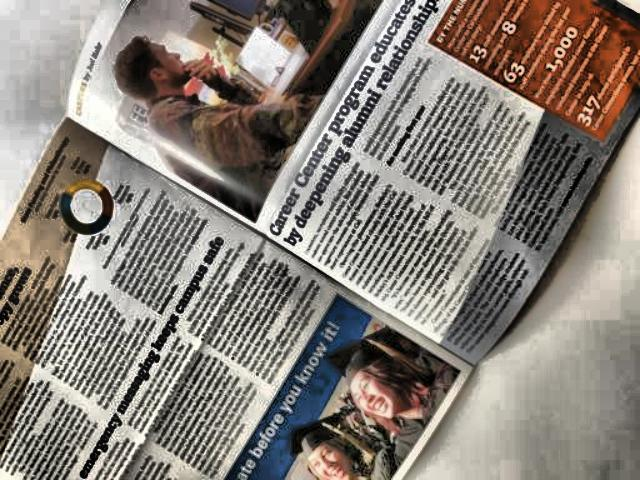Paper: (0, 0, 620, 480)
